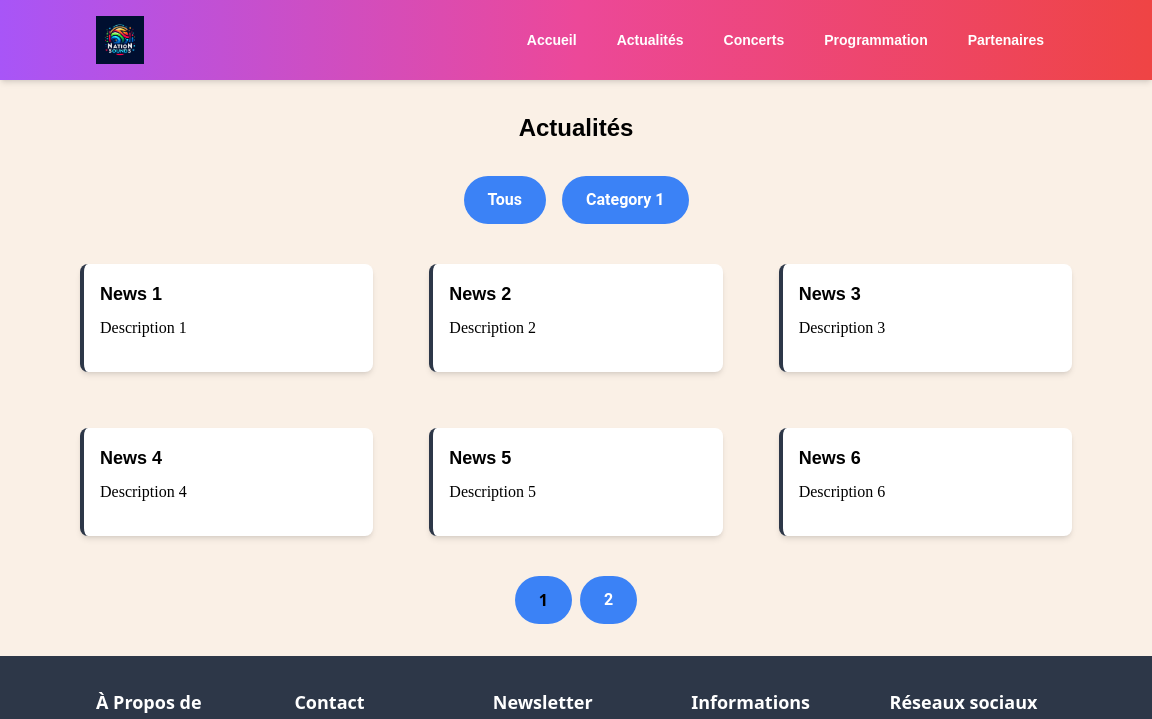
it: Composant NewsPage › pagine les actualités correctement
Expected: the heading "News 1" is shown, left=100, top=284, right=162, bottom=304
Expected: the heading "News 6" is shown, left=799, top=448, right=861, bottom=468
Click the button "2" at {"x": 609, "y": 600}, box left=580, top=576, right=637, bottom=624
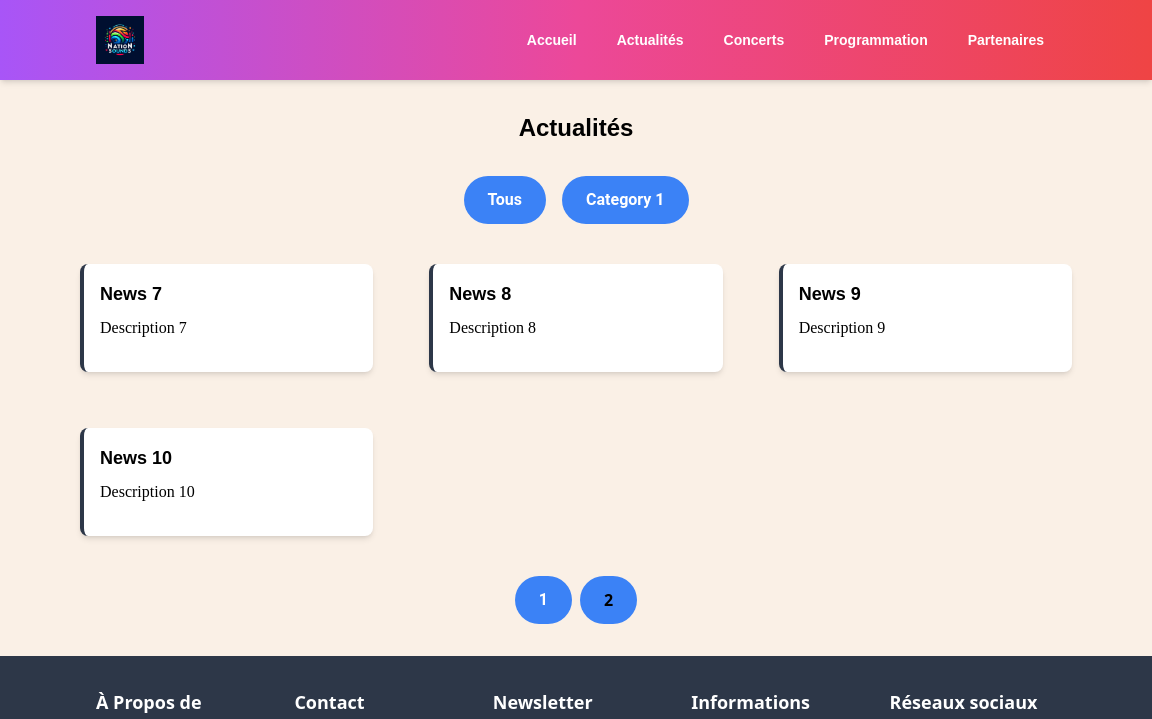
Expected: the heading "News 7" is shown, left=100, top=284, right=162, bottom=304
Expected: the heading "News 10" is shown, left=100, top=448, right=172, bottom=468
